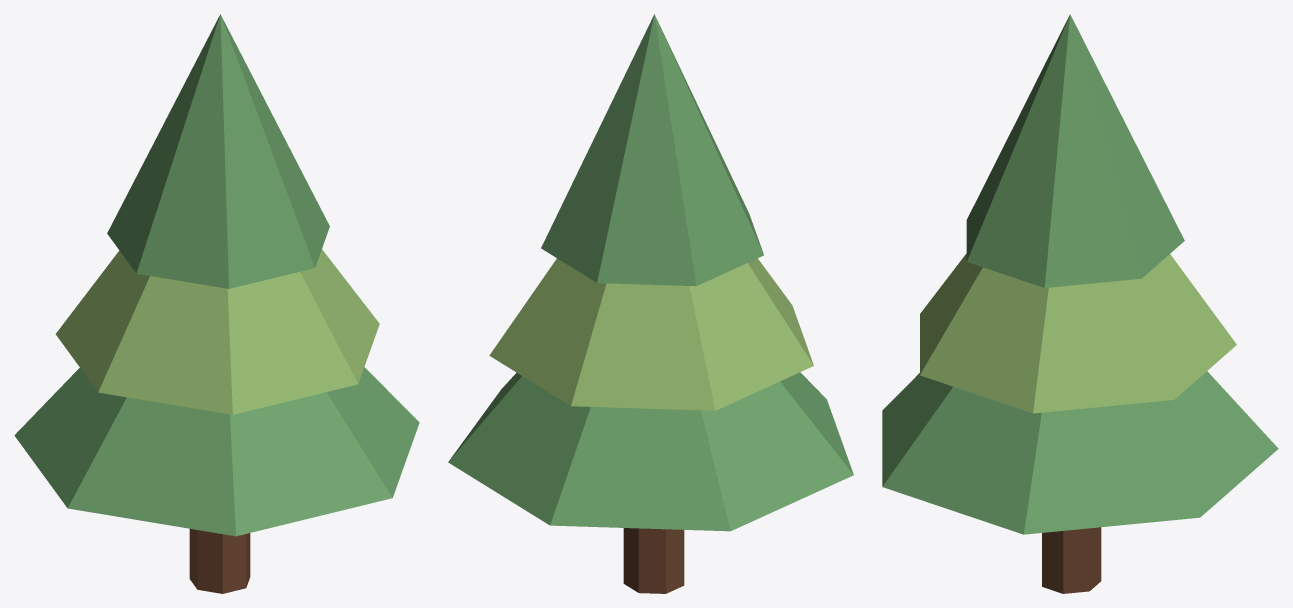
File: CoastalPine.fbx
3 renders of one model, left to right at view 1: azimuth 30°, elevation 25°; view 2: azimuth 150°, elevation 25°; view 3: azimuth 270°, elevation 25°, orthographic.
Parts seen in each view (by area): view 1: CoastalPine_Static; view 2: CoastalPine_Static; view 3: CoastalPine_Static.
Part boxes in pixels (box(x1,y1,x2,y2)): CoastalPine_Static: box(14, 14, 419, 593); CoastalPine_Static: box(448, 14, 853, 593); CoastalPine_Static: box(882, 14, 1278, 593).
Bounding box in the file's own units: 1.95 × 3 × 1.9.
Materials: 1 (1 with a texture image).
